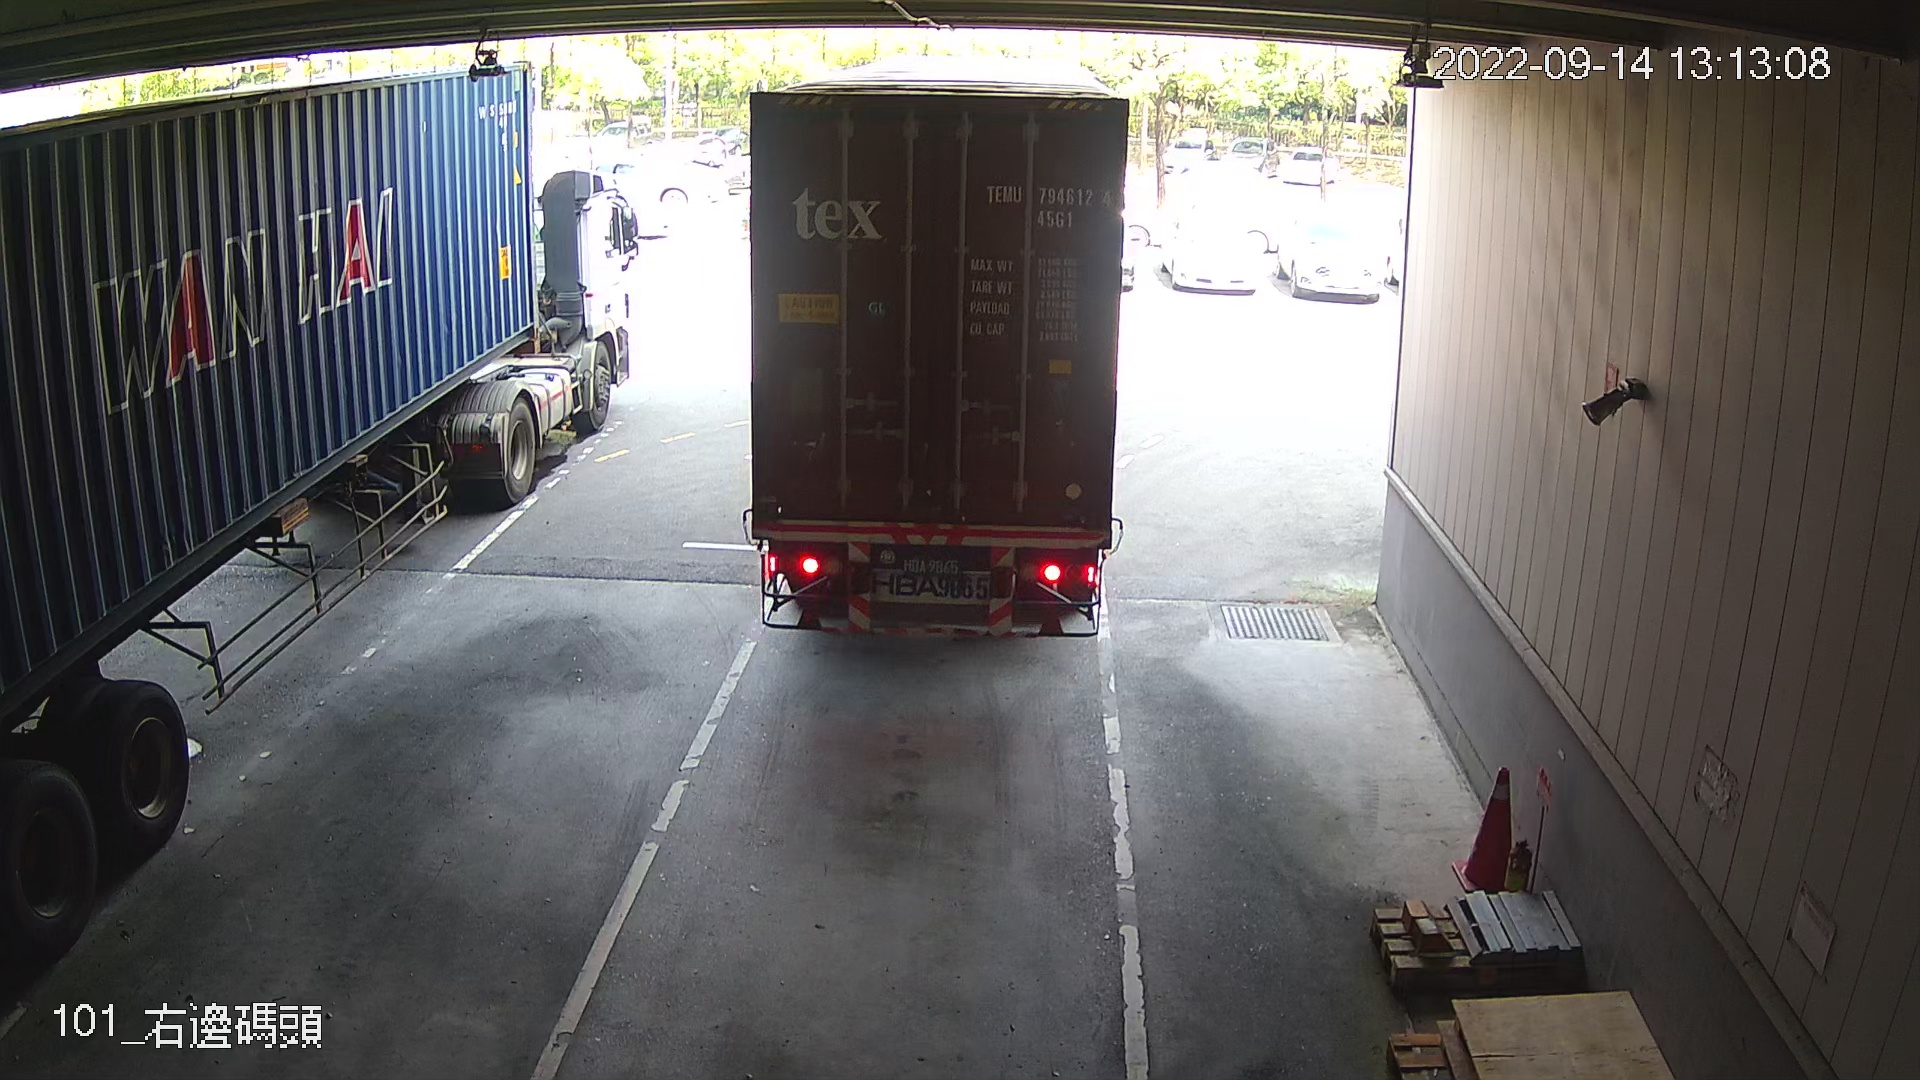container: (978, 175, 1116, 232)
